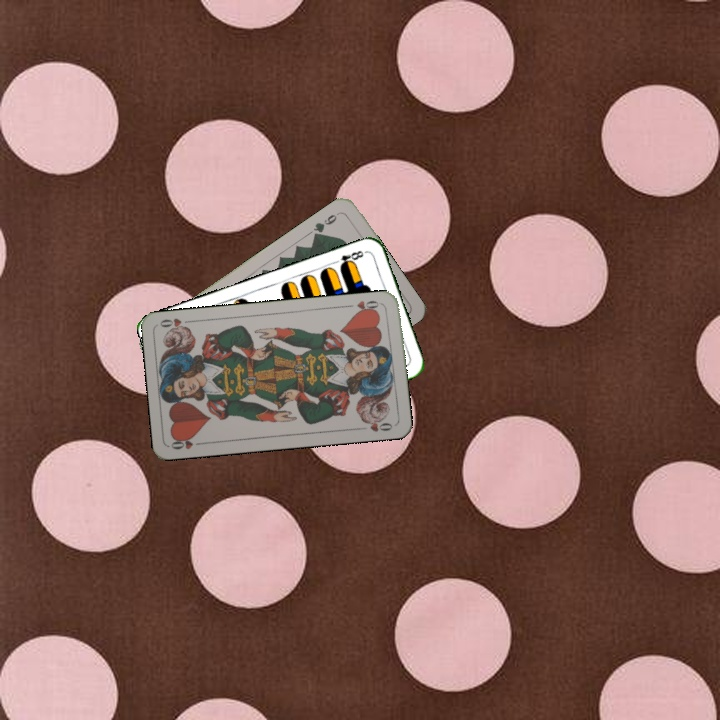E8: (329, 246, 369, 270)
G9: (309, 208, 343, 240)
HO: (344, 296, 384, 316), (167, 433, 208, 452)
